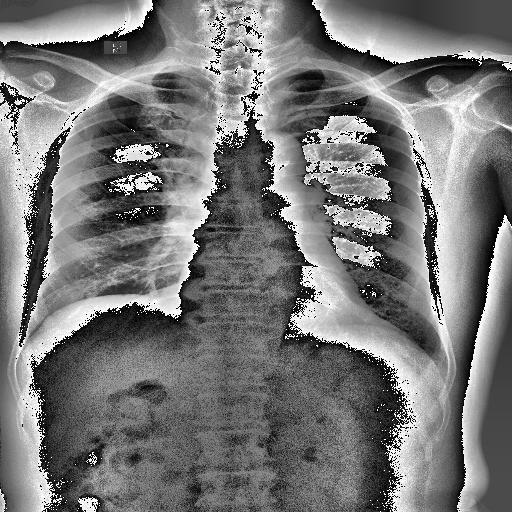0- Aortic enlargement: (243, 130, 306, 178), (255, 134, 306, 190), (252, 130, 306, 176)
10- Pleural effusion: (430, 340, 449, 370)
11- Pleural thickening: (430, 340, 449, 370)
2- Calcification: (274, 157, 292, 171)
